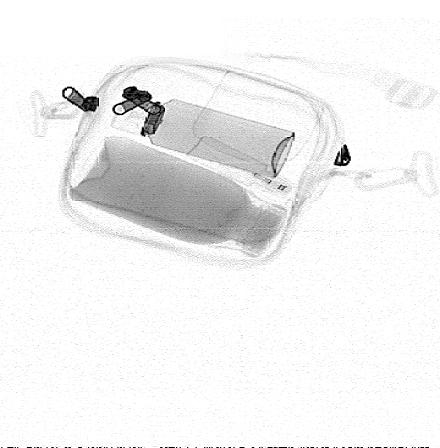Sprayer: (111, 93, 295, 178)
